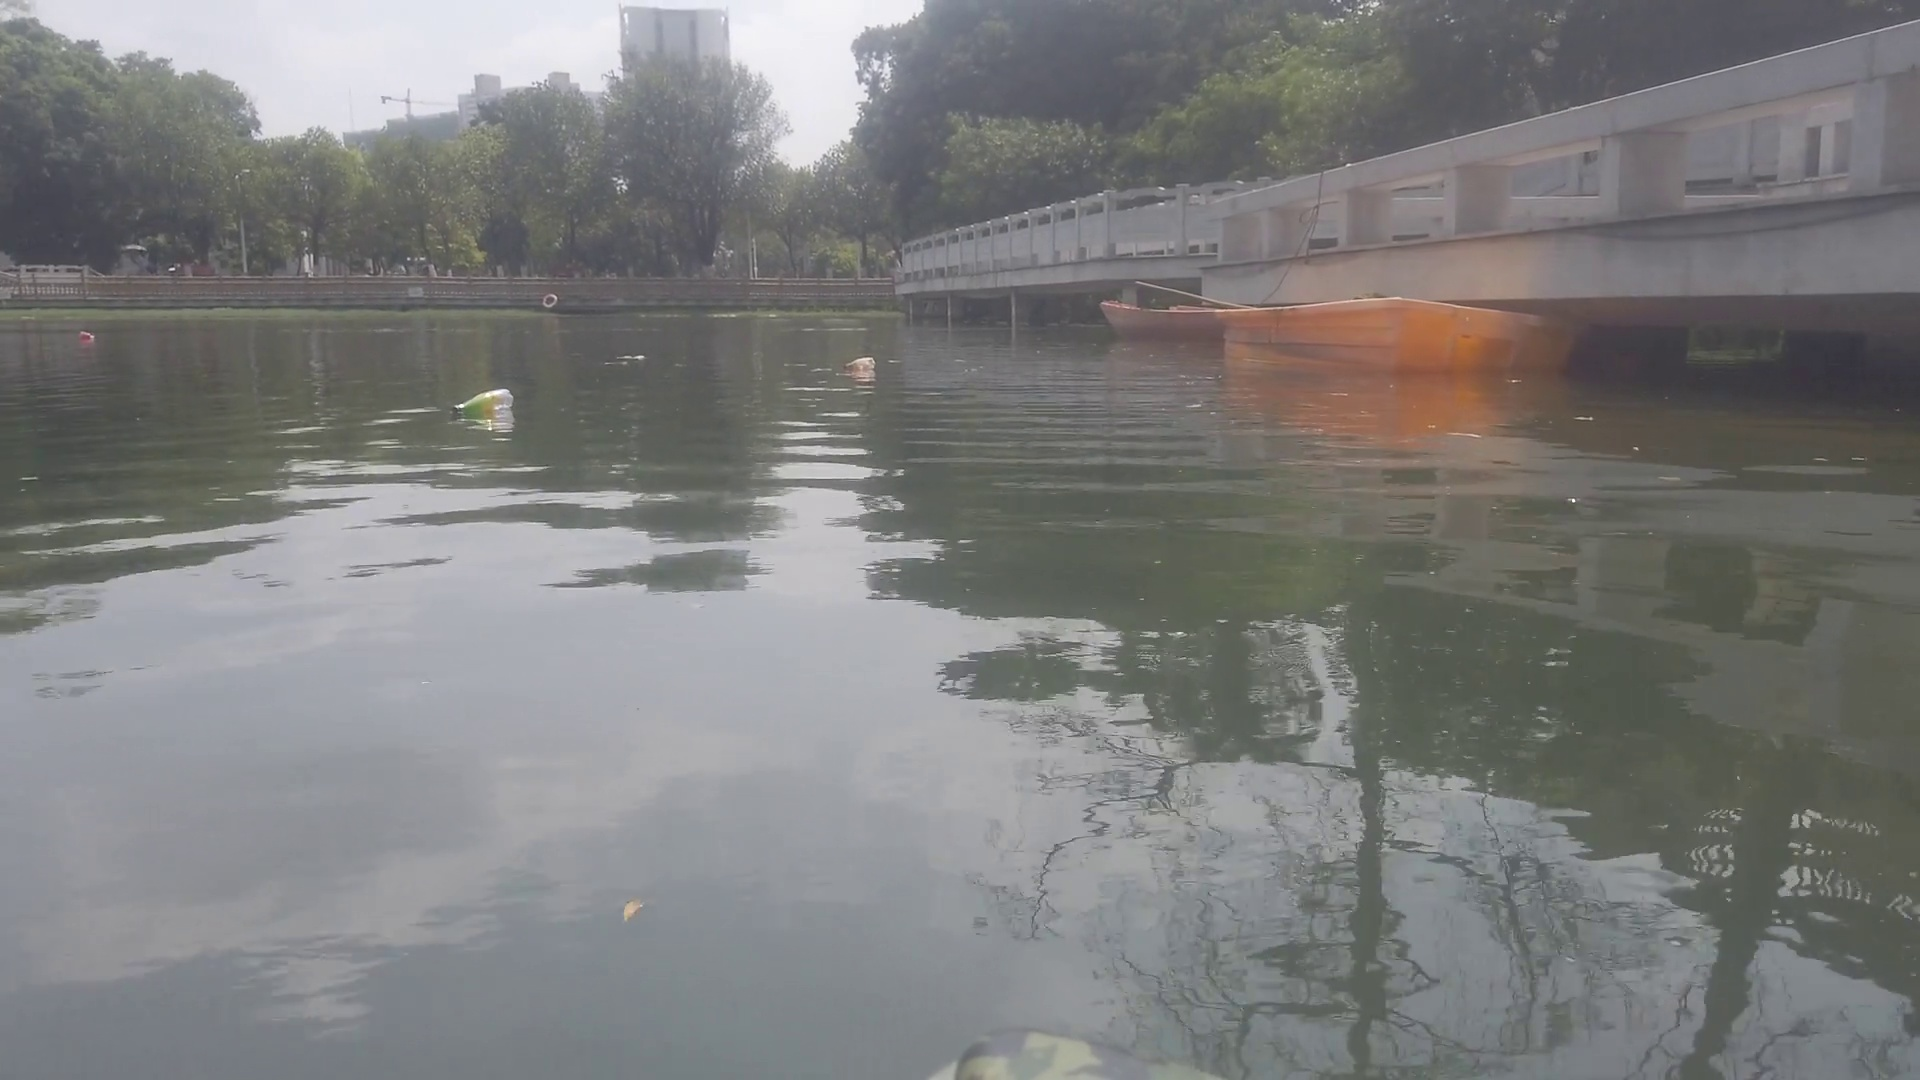bottle: (444, 388, 520, 415), (841, 349, 881, 373), (76, 328, 98, 342)
